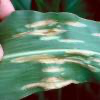Corn leaf blight: (5, 13, 99, 91)
